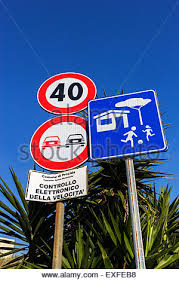Speed_limit_40km: (36, 70, 96, 115)
